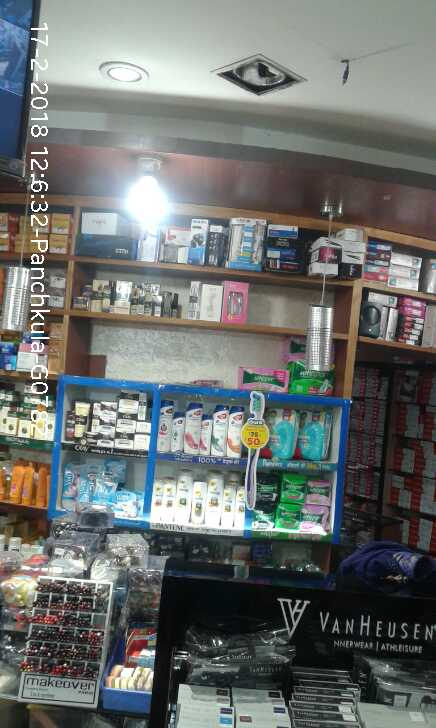venus: (64, 463, 78, 511), (97, 472, 113, 508), (83, 463, 96, 504), (115, 491, 136, 515), (108, 460, 127, 471)
